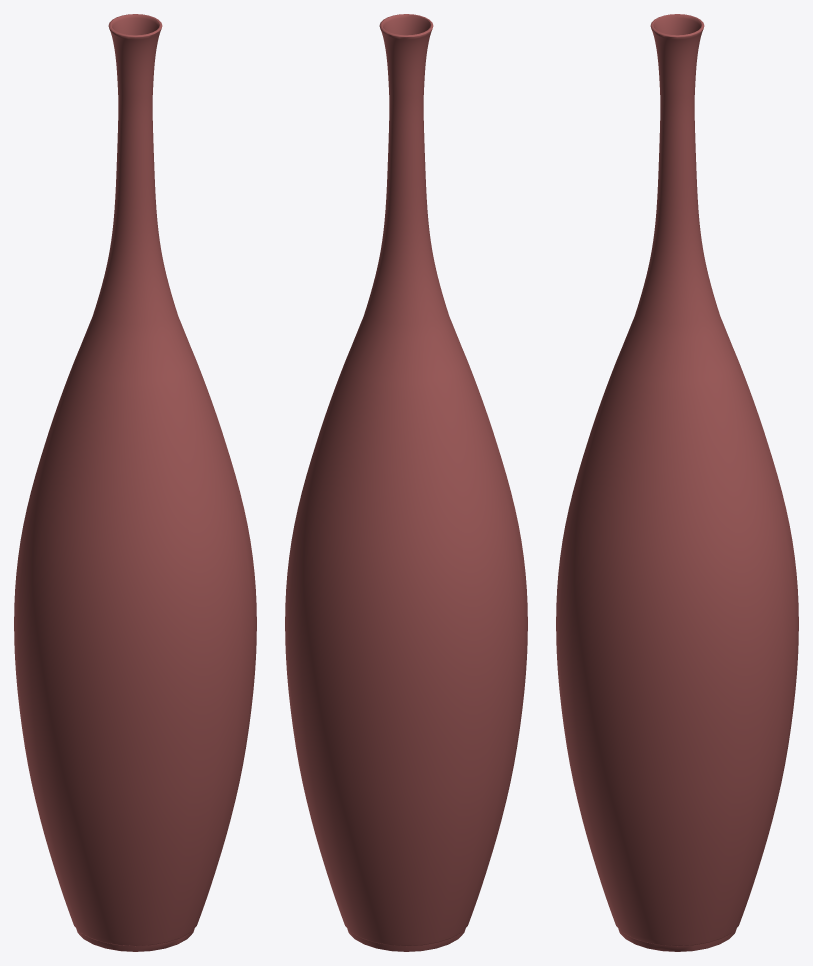
The model's file is Pot10.fbx.
3 views of the same model, side by side, from view 1: azimuth 30°, elevation 25°; view 2: azimuth 150°, elevation 25°; view 3: azimuth 270°, elevation 25° (orthographic).
Parts seen in each view (by area): view 1: Pot10; view 2: Pot10; view 3: Pot10.
Part boxes in pixels (left/top/right/bottom): Pot10: left=14, top=14, right=256, bottom=951; Pot10: left=285, top=14, right=527, bottom=951; Pot10: left=556, top=14, right=798, bottom=951.
Size of the model in its own units: 0.0823 by 0.3374 by 0.0823.
